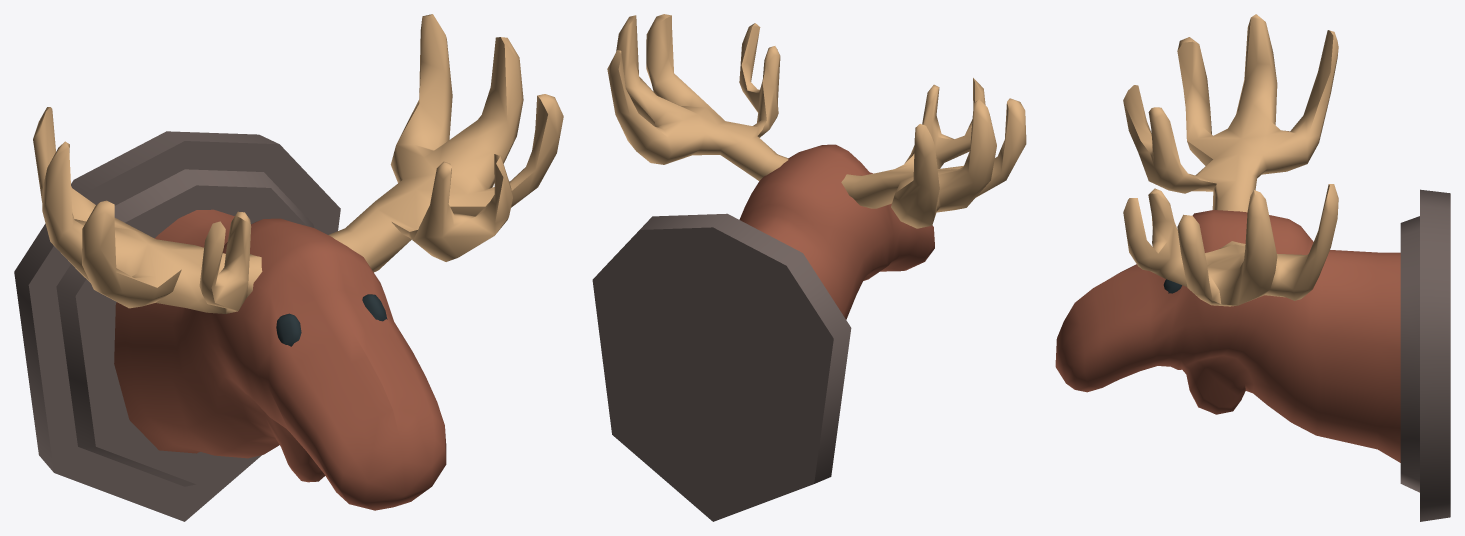
File: moosehead_eyes.fbx
3 views of the same model, side by side, from view 1: azimuth 30°, elevation 25°; view 2: azimuth 150°, elevation 25°; view 3: azimuth 270°, elevation 25° (orthographic). The views are drawn at different scales.
Parts seen in each view (by area): view 1: moosehead_eyes; view 2: moosehead_eyes; view 3: moosehead_eyes.
Part boxes in pixels (x1,y1,x2,y2): moosehead_eyes: (14, 14, 563, 521); moosehead_eyes: (592, 14, 1026, 521); moosehead_eyes: (1055, 14, 1450, 521).
Bounding box in the file's own units: 1.77 × 1.79 × 1.53.
